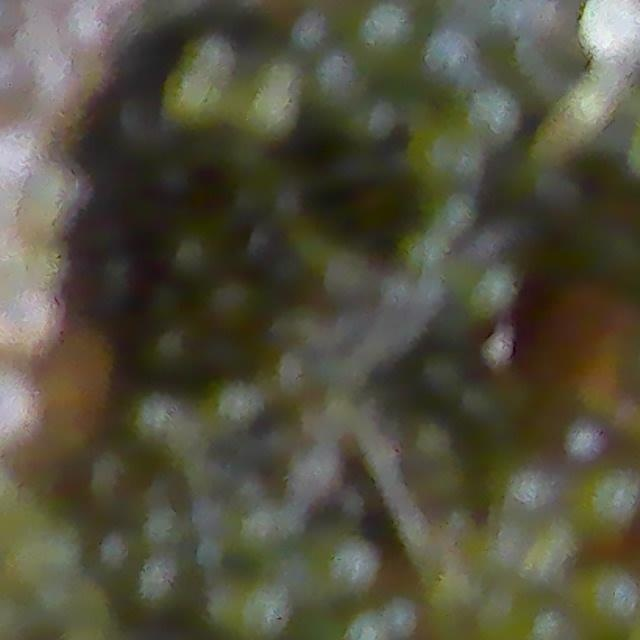SeaGrape: (570, 562, 640, 634), (0, 272, 59, 348), (579, 0, 640, 65)
